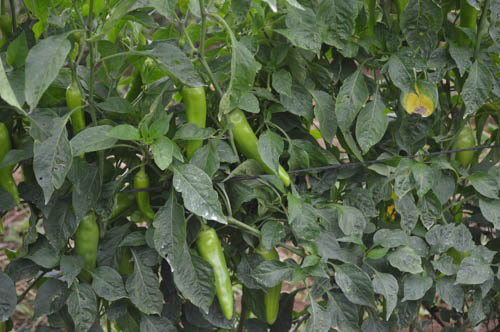ChiliPepper: (225, 111, 291, 185), (200, 228, 236, 318), (177, 82, 208, 157), (257, 248, 283, 322), (70, 216, 100, 271), (63, 87, 89, 134), (134, 171, 154, 220), (458, 128, 476, 166)
